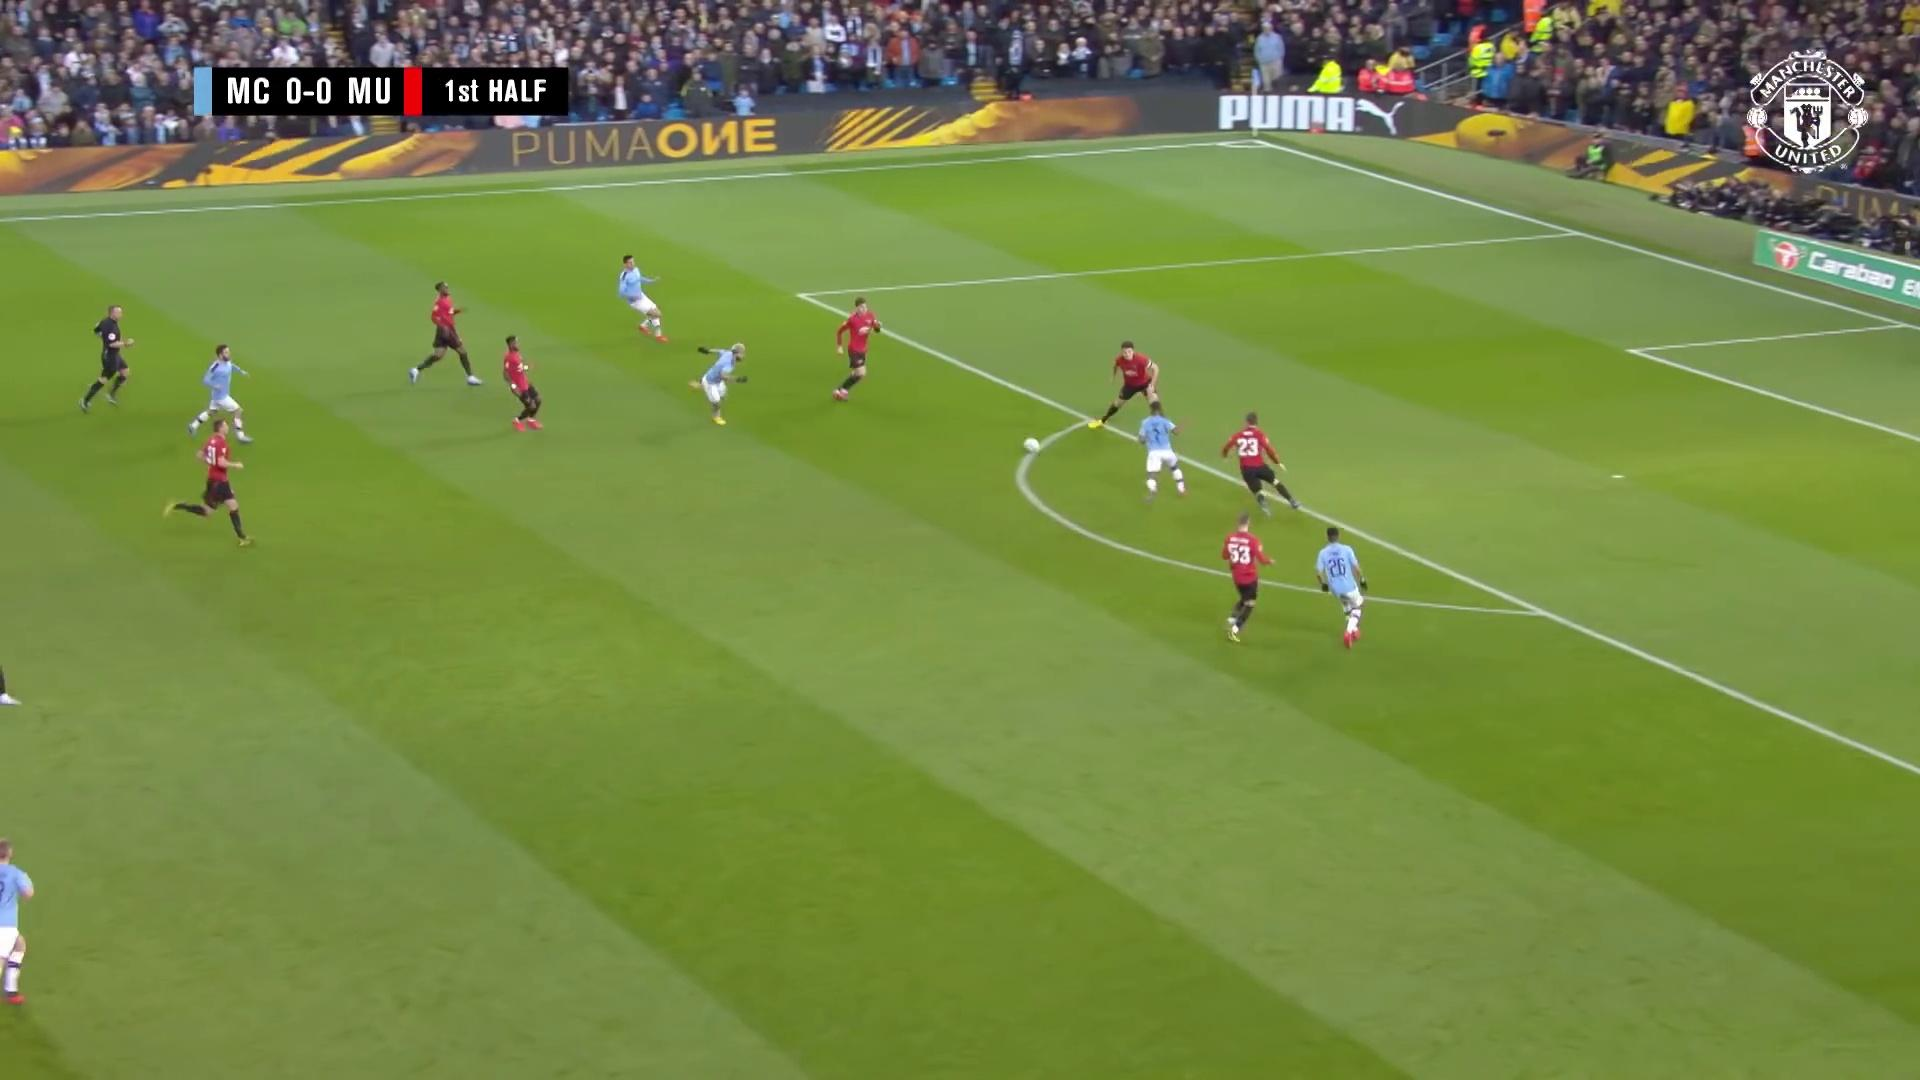ball: (1022, 435, 1040, 456)
